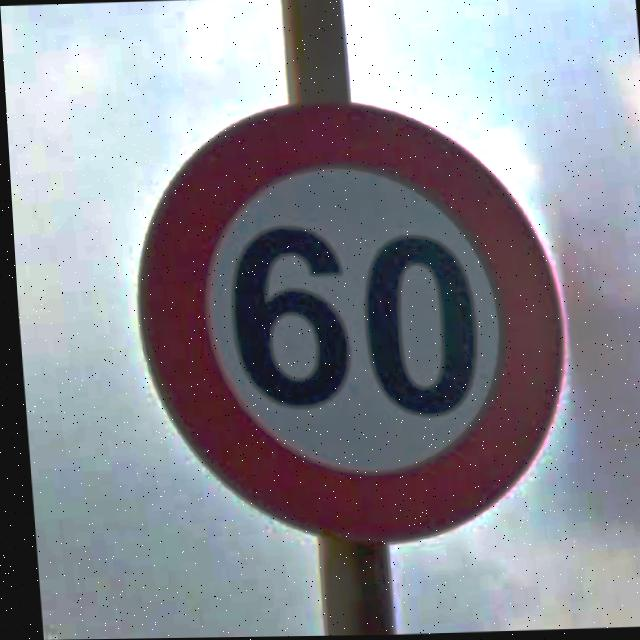max60: (119, 91, 575, 551)
